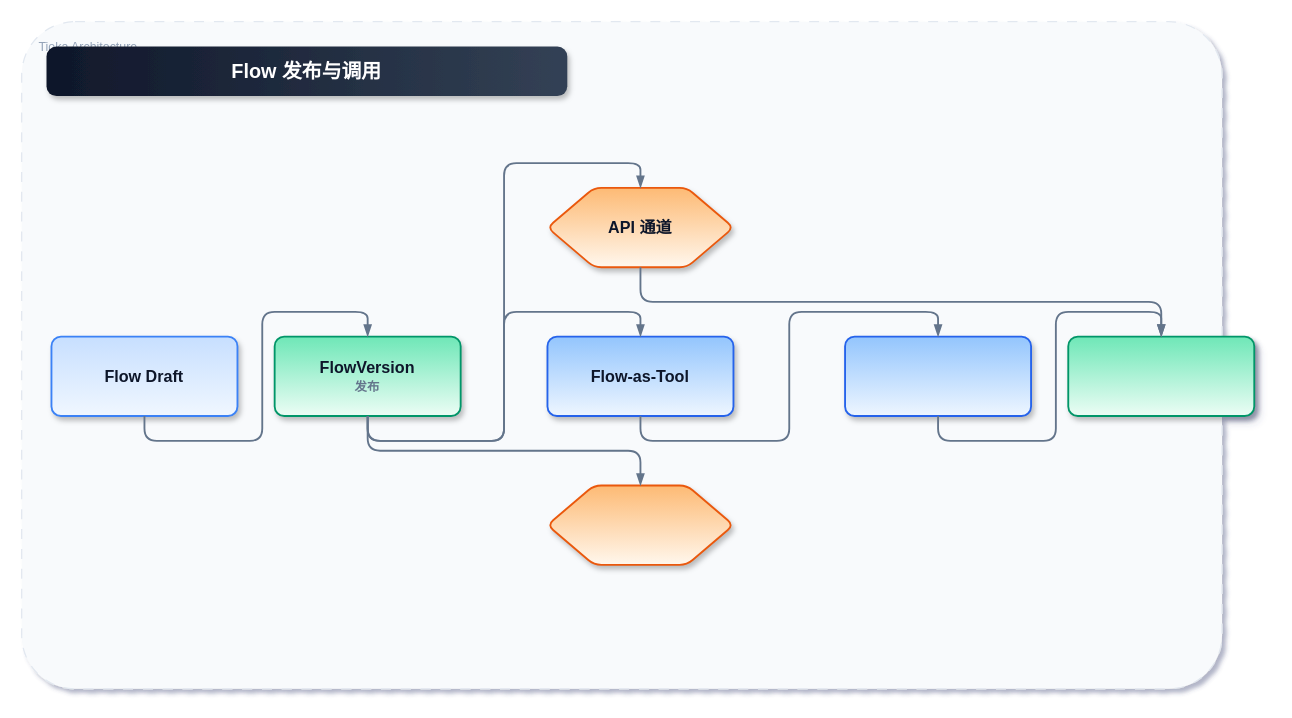
This 1292x718 diagram has some shape labels left out. The centre of each missing label's shape, as x and y in pixels:
Agent 挂载: the point at 939,377
FlowRun: the point at 1162,377
MCP 出口: the point at 641,526
